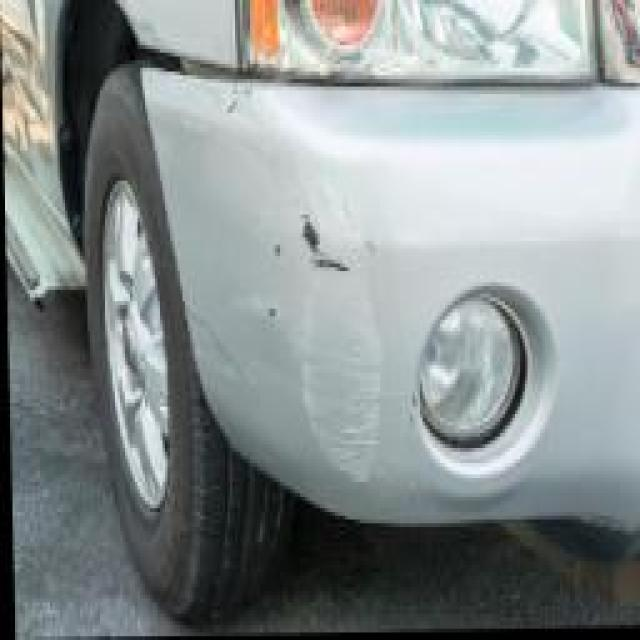Bumper: (139, 68, 430, 536)
